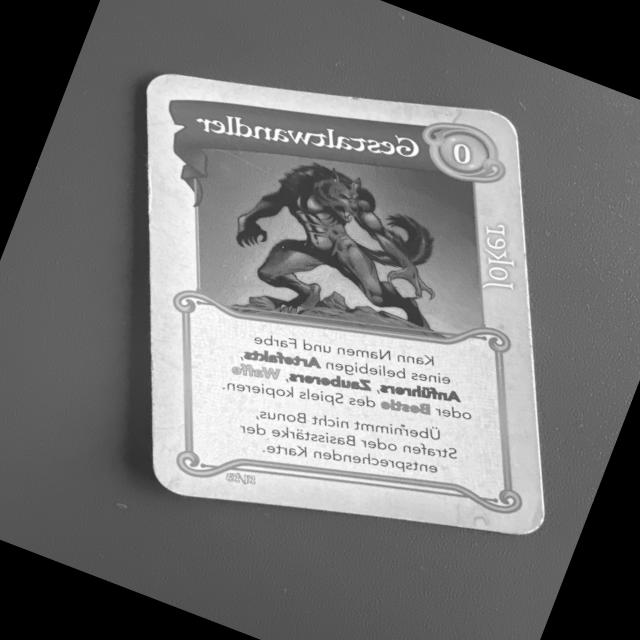Shapeshifter: (143, 69, 545, 534)
